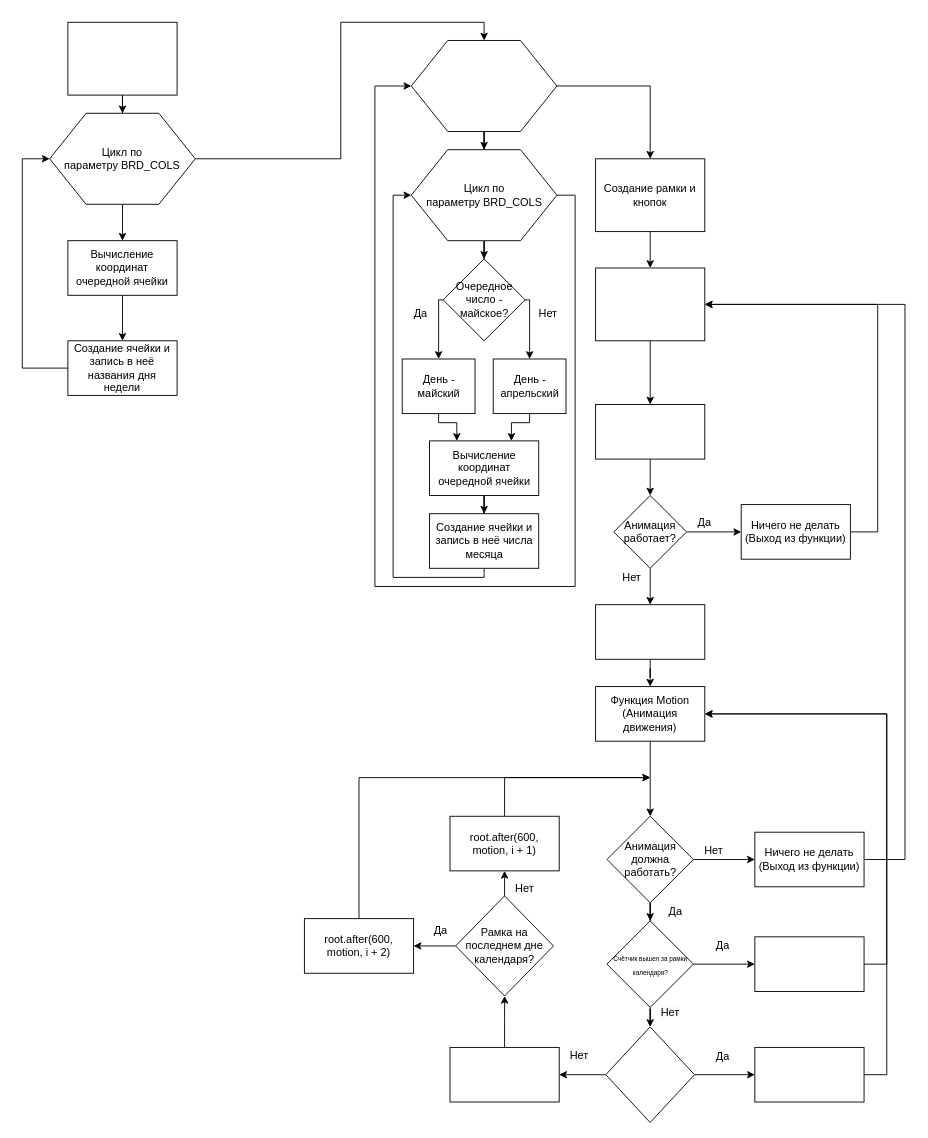
Some shapes in this 928 by 1138 pixel diagram are drawn without their labels. The shapes that lost their labels are listed below. From the top down, each one's centre as x and y in pixels, then its label:
the point at 122,58: Задание начальных параметров: BRD_ROWS BRD_COLS CELL_SZ
the point at 483,85: Цикл по параметру BRD_ROWS
the point at 650,304: Ожидание
the point at 650,431: Функция clicked (Нажат пуск)
the point at 650,631: Включить анимацию
the point at 809,963: Возвращаем рамку в начало месяца
the point at 504,1074: Двигаем рамку вперёд
the point at 650,1074: Текущий день - воскресенье?
the point at 809,1074: Переводим рамку на следующую строку
